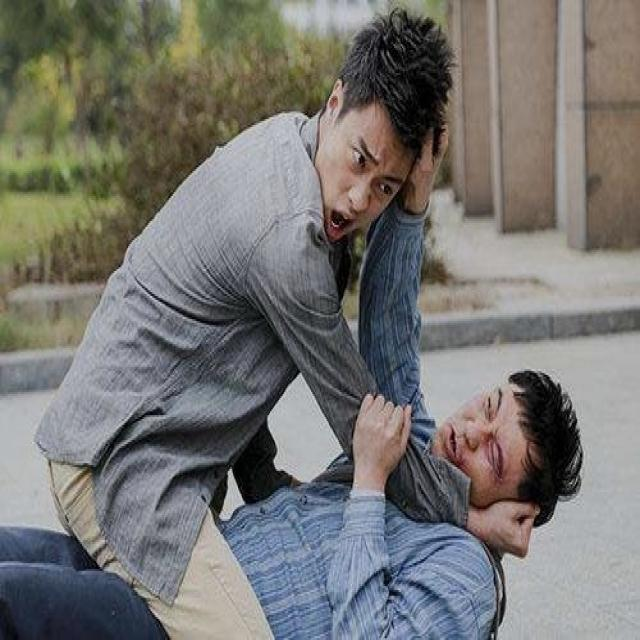fight: (6, 0, 581, 640)
